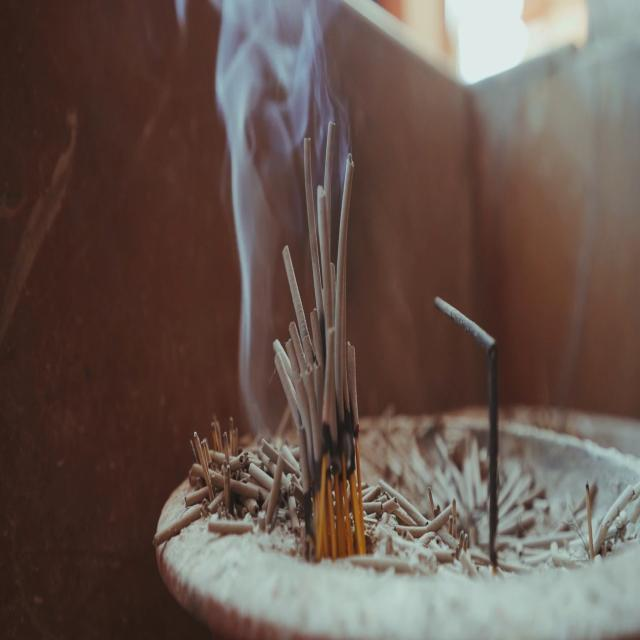fire: (212, 0, 353, 471)
